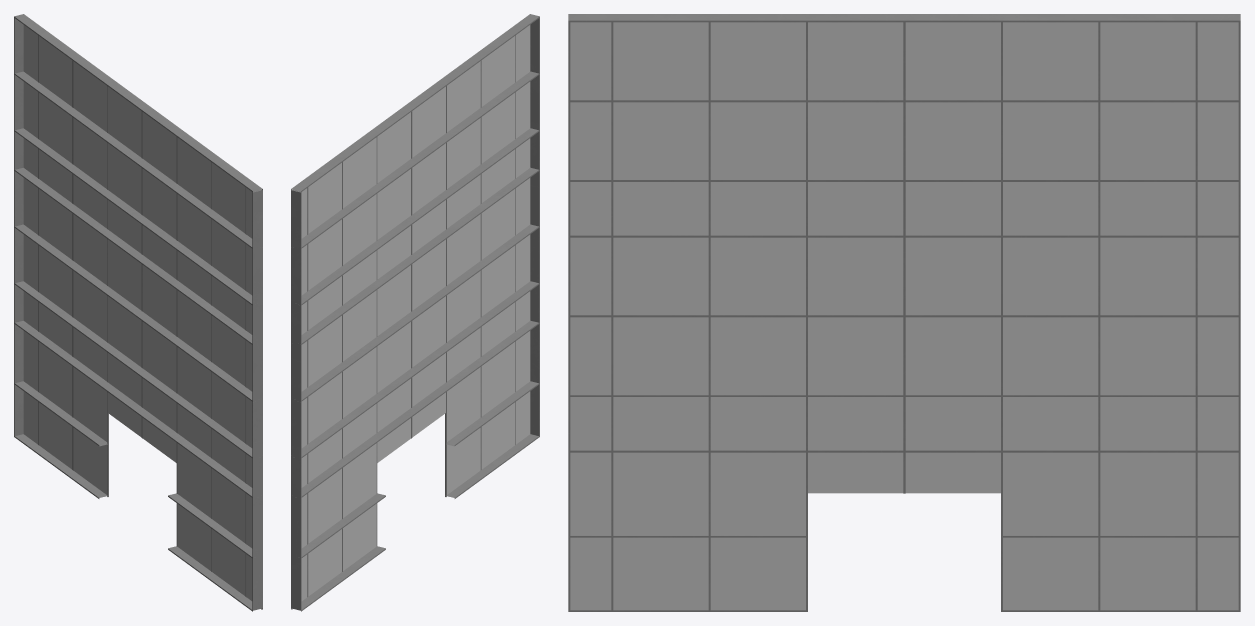
File: SM_Wall_Windows_02.fbx
3 renders of one model, left to right at view 1: azimuth 30°, elevation 25°; view 2: azimuth 150°, elevation 25°; view 3: azimuth 270°, elevation 25°, orthographic. The views are drawn at different scales.
Parts seen in each view (by area): view 1: SM_Wall_Windows_02_LOD0; view 2: SM_Wall_Windows_02_LOD0; view 3: SM_Wall_Windows_02_LOD0.
Boxes of the visible parts, left/top/right/bottom form: SM_Wall_Windows_02_LOD0: left=14, top=14, right=262, bottom=611; SM_Wall_Windows_02_LOD0: left=291, top=14, right=539, bottom=611; SM_Wall_Windows_02_LOD0: left=568, top=14, right=1240, bottom=611.
Size of the model in its own units: 40 by 1700 by 1650.
